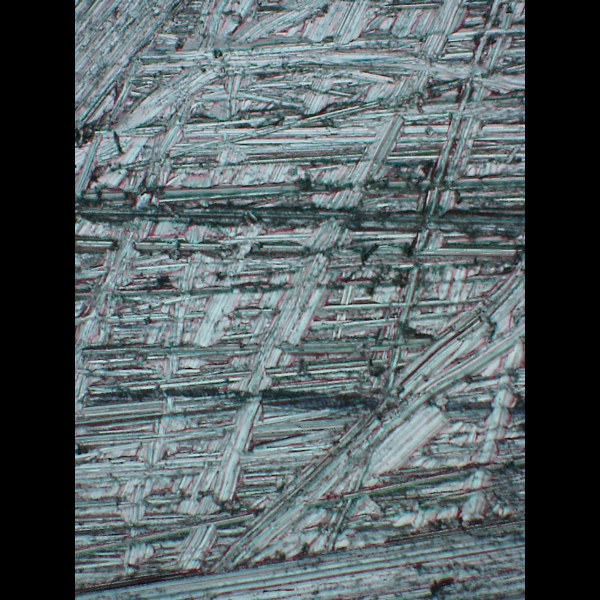d: (75, 0, 522, 597)
